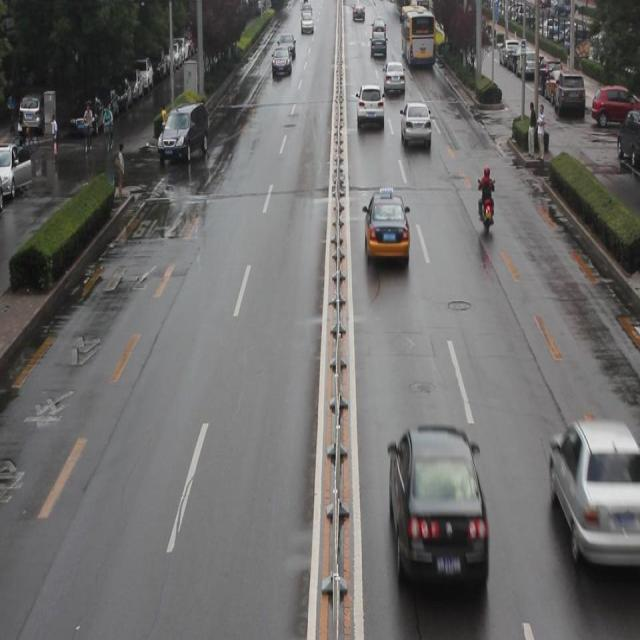car: (386, 429, 487, 597), (548, 418, 640, 566), (361, 188, 409, 269), (400, 100, 430, 152), (356, 84, 382, 134)
truck: (158, 103, 208, 166)
